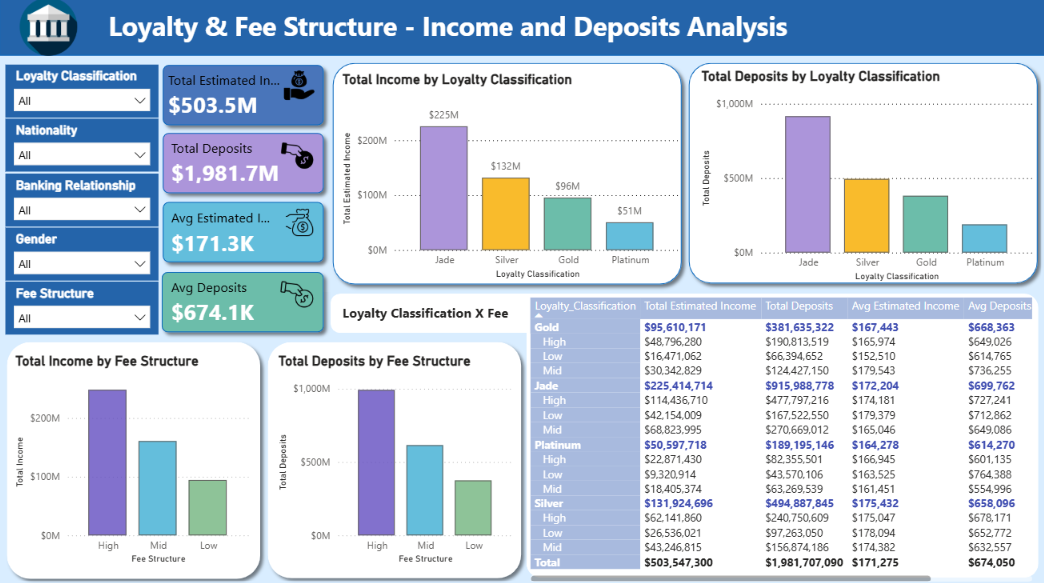

Layout of this report page (visuals, bound fields, positions):
{"tool":"powerbi","page":{"name":"Page 1","canvas":[1280,720],"ordinal":0},"visuals":[{"type":"shape","box":[404.2,361.9,258.2,48.3],"z":0},{"type":"shape","box":[644.2,361.9,626.1,347.5],"z":1000},{"type":"shape","box":[319.7,412.4,327.8,307],"z":2000},{"type":"shape","box":[0,412.4,328,307.6],"z":3000},{"type":"shape","box":[834.3,71.2,444.7,287.5],"z":4000},{"type":"shape","box":[399,71.2,444.7,288.8],"z":5000},{"type":"shape","box":[0,0,1280,71],"z":6000},{"type":"textbox","box":[128.4,7.3,848.6,57.5],"z":7000},{"type":"slicer","fields":{"Values":["Clean_Banking_Clients.Loyalty_Classification"]},"box":[7.2,82,187,65.1],"z":8000},{"type":"slicer","fields":{"Values":["Clean_Banking_Clients.Fee_Structure"]},"box":[7.2,347.5,187,65.1],"z":9000},{"type":"slicer","fields":{"Values":["Clean_Banking_Clients.Banking_Relationship"]},"box":[7.2,214.7,187,65.1],"z":10000},{"type":"slicer","fields":{"Values":["Clean_Banking_Clients.Gender"]},"box":[7.2,281.1,187,65.1],"z":11000},{"type":"slicer","fields":{"Values":["Clean_Banking_Clients.Nationality"]},"box":[7.2,148.4,187,65.1],"z":12000},{"type":"shape","box":[190.6,73.6,214.7,91.7],"z":13000},{"type":"shape","box":[190.6,156.6,214.7,91.7],"z":14000},{"type":"shape","box":[190.6,241,214.7,91.7],"z":15000},{"type":"shape","box":[189.4,326.7,216,91.7],"z":16000},{"type":"cardVisual","fields":{"Data":["Measures (2).Total Deposits"]},"box":[181,154.1,233.6,95.4],"z":17000},{"type":"cardVisual","fields":{"Data":["Measures (2).Avg Estimated Income"]},"box":[181,240.9,233.6,91.7],"z":18000},{"type":"cardVisual","fields":{"Data":["Measures (2).Avg Deposits"]},"box":[181,325.3,233.6,92.9],"z":19000},{"type":"cardVisual","fields":{"Data":["Measures (2).Total Estimated Income"]},"box":[177.3,64.8,237.2,106.4],"z":20000},{"type":"clusteredColumnChart","title":"Total Deposits by Loyalty Classification","fields":{"Category":["Clean_Banking_Clients.Loyalty_Classification"],"Y":["Measures (2).Total Deposits"]},"box":[853.1,86,415.1,266],"z":21000},{"type":"clusteredColumnChart","title":"Total Income by Loyalty Classification","fields":{"Y":["Measures (2).Total Estimated Income"],"Category":["Clean_Banking_Clients.Loyalty_Classification"]},"box":[415.1,88.7,423.2,259.3],"z":22000},{"type":"clusteredColumnChart","title":"Total Income by Fee Structure","fields":{"Y":["Measures (2).Total Estimated Income"],"Category":["Clean_Banking_Clients.Fee_Structure"]},"box":[14.8,433.9,295.6,263.3],"z":23000},{"type":"clusteredColumnChart","title":"Total Deposits by Fee Structure","fields":{"Y":["Measures (2).Total Deposits"],"Category":["Clean_Banking_Clients.Fee_Structure"]},"box":[335.9,433.9,296.9,263.3],"z":24000},{"type":"pivotTable","fields":{"Rows":["Clean_Banking_Clients.Loyalty_Classification","Clean_Banking_Clients.Fee_Structure"],"Values":["Measures (2).Total Estimated Income","Measures (2).Total Deposits","Measures (2).Avg Estimated Income","Measures (2).Avg Deposits","Measures (2).Total Net Worth"]},"box":[644.2,370.4,632.2,349.9],"z":25000},{"type":"textbox","box":[415,369.2,218.4,31.4],"z":26000},{"type":"image","box":[0,0,119.8,70.9],"z":27000}]}

Visuals, with their boxes in screenshot pixels (x1, y1, x2, y2), scaled from the page's 1280x720 canvas onto the 1044x583 screenshot:
shape: [left=330, top=293, right=540, bottom=332]
shape: [left=525, top=293, right=1036, bottom=574]
shape: [left=261, top=334, right=528, bottom=582]
shape: [left=0, top=334, right=268, bottom=582]
shape: [left=680, top=58, right=1043, bottom=290]
shape: [left=325, top=58, right=688, bottom=292]
shape: [left=0, top=0, right=1043, bottom=57]
textbox: [left=105, top=6, right=797, bottom=52]
slicer - Clean_Banking_Clients.Loyalty_Classification: [left=6, top=66, right=158, bottom=119]
slicer - Clean_Banking_Clients.Fee_Structure: [left=6, top=281, right=158, bottom=334]
slicer - Clean_Banking_Clients.Banking_Relationship: [left=6, top=174, right=158, bottom=227]
slicer - Clean_Banking_Clients.Gender: [left=6, top=228, right=158, bottom=280]
slicer - Clean_Banking_Clients.Nationality: [left=6, top=120, right=158, bottom=173]
shape: [left=155, top=60, right=331, bottom=134]
shape: [left=155, top=127, right=331, bottom=201]
shape: [left=155, top=195, right=331, bottom=269]
shape: [left=154, top=265, right=331, bottom=339]
cardVisual - Measures (2).Total Deposits: [left=148, top=125, right=338, bottom=202]
cardVisual - Measures (2).Avg Estimated Income: [left=148, top=195, right=338, bottom=269]
cardVisual - Measures (2).Avg Deposits: [left=148, top=263, right=338, bottom=339]
cardVisual - Measures (2).Total Estimated Income: [left=145, top=52, right=338, bottom=139]
"Total Deposits by Loyalty Classification" clusteredColumnChart: [left=696, top=70, right=1034, bottom=285]
"Total Income by Loyalty Classification" clusteredColumnChart: [left=339, top=72, right=684, bottom=282]
"Total Income by Fee Structure" clusteredColumnChart: [left=12, top=351, right=253, bottom=565]
"Total Deposits by Fee Structure" clusteredColumnChart: [left=274, top=351, right=516, bottom=565]
pivotTable - Clean_Banking_Clients.Loyalty_Classification x Clean_Banking_Clients.Fee_Structure: [left=525, top=300, right=1041, bottom=582]
textbox: [left=338, top=299, right=517, bottom=324]
image: [left=0, top=0, right=98, bottom=57]
